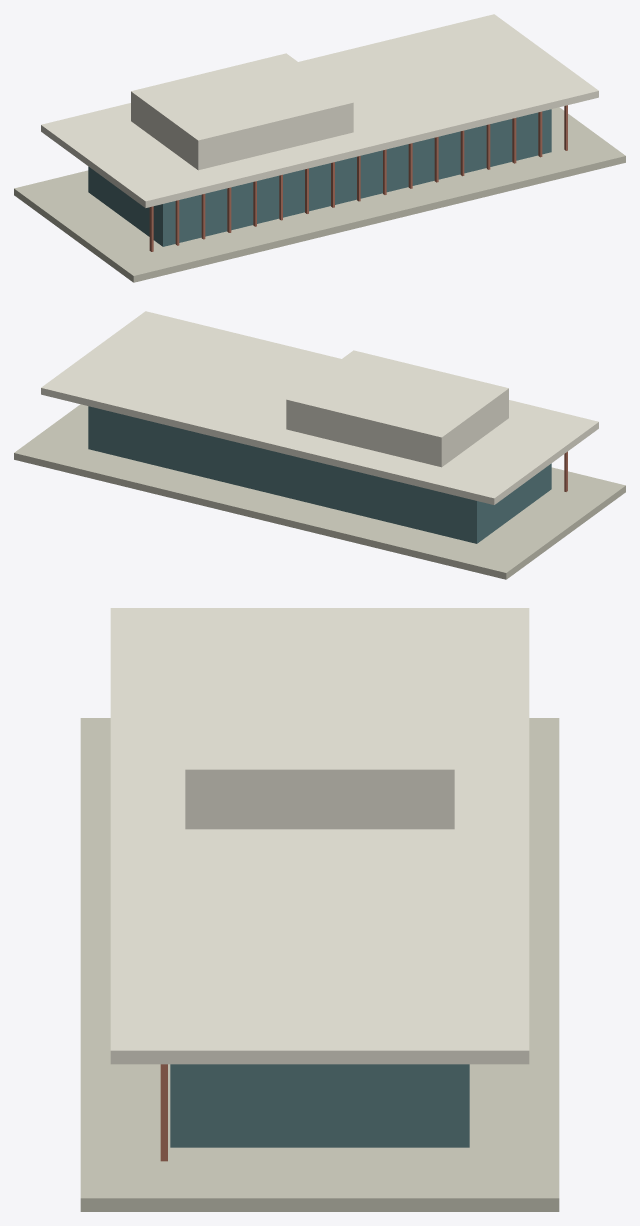
File: sunland_pavilion.glb
The picture shows the model from 3 angles, top to bottom: view 1: azimuth 30°, elevation 25°; view 2: azimuth 150°, elevation 25°; view 3: azimuth 270°, elevation 25°; orthographic projection. The views are drawn at different scales.
Visible parts, largest first — view 1: sunland_pavilion_white, sunland_pavilion_concrete, sunland_pavilion_glass, sunland_pavilion_terracotta; view 2: sunland_pavilion_white, sunland_pavilion_concrete, sunland_pavilion_glass; view 3: sunland_pavilion_white, sunland_pavilion_concrete, sunland_pavilion_glass.
Part boxes in pixels (x1=…): sunland_pavilion_white: x1=41, y1=14, x2=598, y2=207; sunland_pavilion_concrete: x1=14, y1=107, x2=625, y2=282; sunland_pavilion_glass: x1=88, y1=109, x2=551, y2=246; sunland_pavilion_terracotta: x1=149, y1=105, x2=567, y2=251; sunland_pavilion_white: x1=41, y1=311, x2=598, y2=504; sunland_pavilion_concrete: x1=14, y1=404, x2=625, y2=579; sunland_pavilion_glass: x1=88, y1=406, x2=551, y2=543; sunland_pavilion_white: x1=110, y1=608, x2=529, y2=1064; sunland_pavilion_concrete: x1=80, y1=718, x2=559, y2=1211; sunland_pavilion_glass: x1=170, y1=1064, x2=469, y2=1147.
Bounding box in the file's own units: 13.68 × 2.68 × 5.76.
